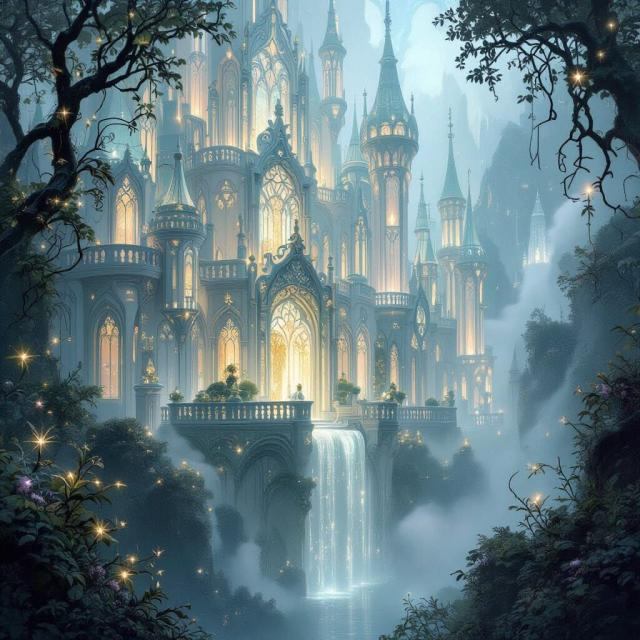castle: (57, 2, 504, 450)
